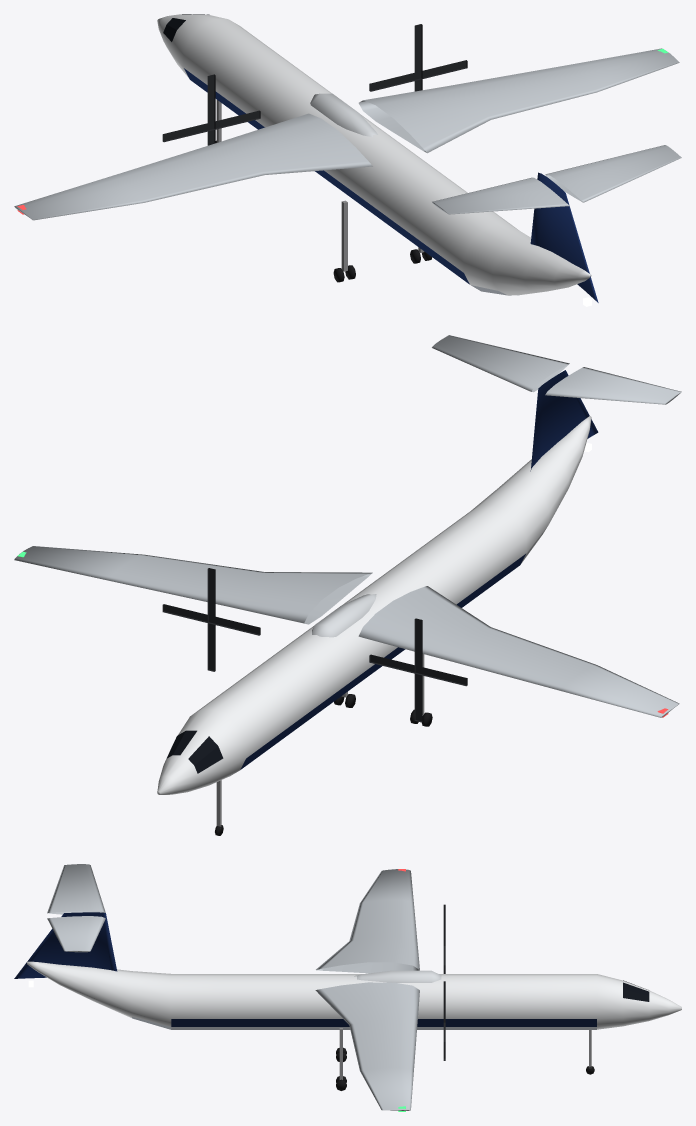
Rendered from fleet_turboprop2_lod1.glb.
3 views of the same model, one above another, from view 1: azimuth 30°, elevation 25°; view 2: azimuth 150°, elevation 25°; view 3: azimuth 270°, elevation 25° (orthographic). The views are drawn at different scales.
Visible parts, largest first — view 1: fleet_turboprop2_lod1_wing, fleet_turboprop2_lod1_white, fleet_turboprop2_lod1_blue, fleet_turboprop2_lod1_dark, fleet_turboprop2_lod1_nacelle, fleet_turboprop2_lod1_metal, fleet_turboprop2_lod1_tyre; view 2: fleet_turboprop2_lod1_wing, fleet_turboprop2_lod1_white, fleet_turboprop2_lod1_blue, fleet_turboprop2_lod1_dark, fleet_turboprop2_lod1_nacelle, fleet_turboprop2_lod1_glass; view 3: fleet_turboprop2_lod1_white, fleet_turboprop2_lod1_wing, fleet_turboprop2_lod1_blue, fleet_turboprop2_lod1_belly, fleet_turboprop2_lod1_nacelle, fleet_turboprop2_lod1_dark.
Boxes of the visible parts, bbox=[...] form: fleet_turboprop2_lod1_wing: bbox=[14, 48, 681, 220]; fleet_turboprop2_lod1_white: bbox=[157, 14, 591, 295]; fleet_turboprop2_lod1_blue: bbox=[184, 68, 598, 302]; fleet_turboprop2_lod1_dark: bbox=[162, 24, 467, 145]; fleet_turboprop2_lod1_nacelle: bbox=[310, 93, 377, 137]; fleet_turboprop2_lod1_metal: bbox=[216, 100, 424, 271]; fleet_turboprop2_lod1_tyre: bbox=[215, 140, 432, 282]; fleet_turboprop2_lod1_wing: bbox=[14, 335, 681, 717]; fleet_turboprop2_lod1_white: bbox=[157, 416, 591, 794]; fleet_turboprop2_lod1_blue: bbox=[240, 370, 598, 769]; fleet_turboprop2_lod1_dark: bbox=[162, 568, 467, 722]; fleet_turboprop2_lod1_nacelle: bbox=[312, 594, 376, 637]; fleet_turboprop2_lod1_glass: bbox=[167, 730, 223, 773]; fleet_turboprop2_lod1_white: bbox=[27, 961, 681, 1029]; fleet_turboprop2_lod1_wing: bbox=[47, 864, 419, 1110]; fleet_turboprop2_lod1_blue: bbox=[14, 912, 596, 1026]; fleet_turboprop2_lod1_belly: bbox=[132, 1017, 596, 1029]; fleet_turboprop2_lod1_nacelle: bbox=[354, 970, 441, 982]; fleet_turboprop2_lod1_dark: bbox=[443, 904, 445, 1060].
Bounding box in the file's own units: 28.4 × 9.23 × 33.46.
